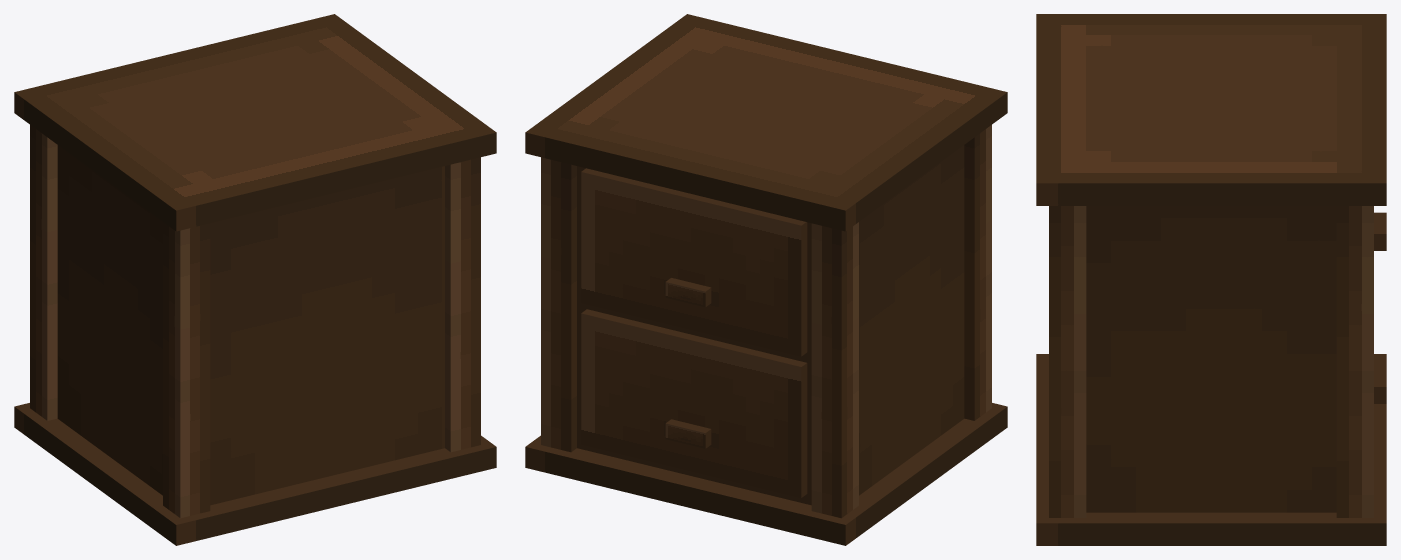
The model's file is Mesa.fbx.
3 views of the same model, side by side, from view 1: azimuth 30°, elevation 25°; view 2: azimuth 150°, elevation 25°; view 3: azimuth 270°, elevation 25° (orthographic). The views are drawn at different scales.
Parts seen in each view (by area): view 1: b69dd17a-8e92-a3c3-3918-94901495159d; view 2: b69dd17a-8e92-a3c3-3918-94901495159d; view 3: b69dd17a-8e92-a3c3-3918-94901495159d.
Part boxes in pixels (x1,y1,x2,y2): b69dd17a-8e92-a3c3-3918-94901495159d: (14, 14, 496, 545); b69dd17a-8e92-a3c3-3918-94901495159d: (525, 14, 1007, 545); b69dd17a-8e92-a3c3-3918-94901495159d: (1036, 14, 1386, 545).
Size of the model in its own units: 11.44 by 11.44 by 10.01.
Materials: 4 (1 with a texture image).
